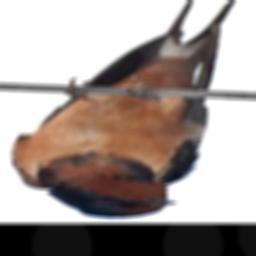Swallow: (7, 0, 239, 219)
